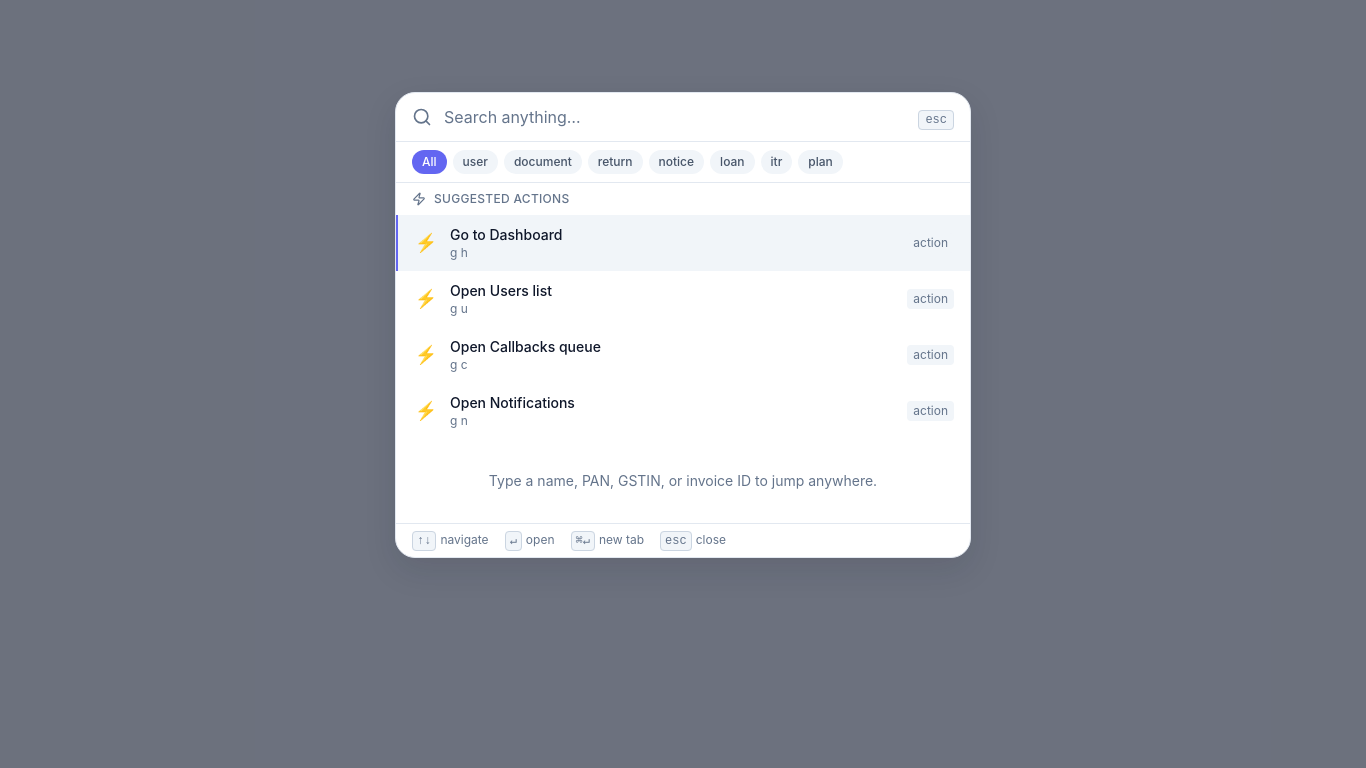
Test: CommandPalette › shows no-results message when search returns empty
The width and height of the screenshot is (1366, 768).
In the dropdown with placeholder "Search anything…": (675, 117) left=444, top=105, right=906, bottom=129, type "xyz"
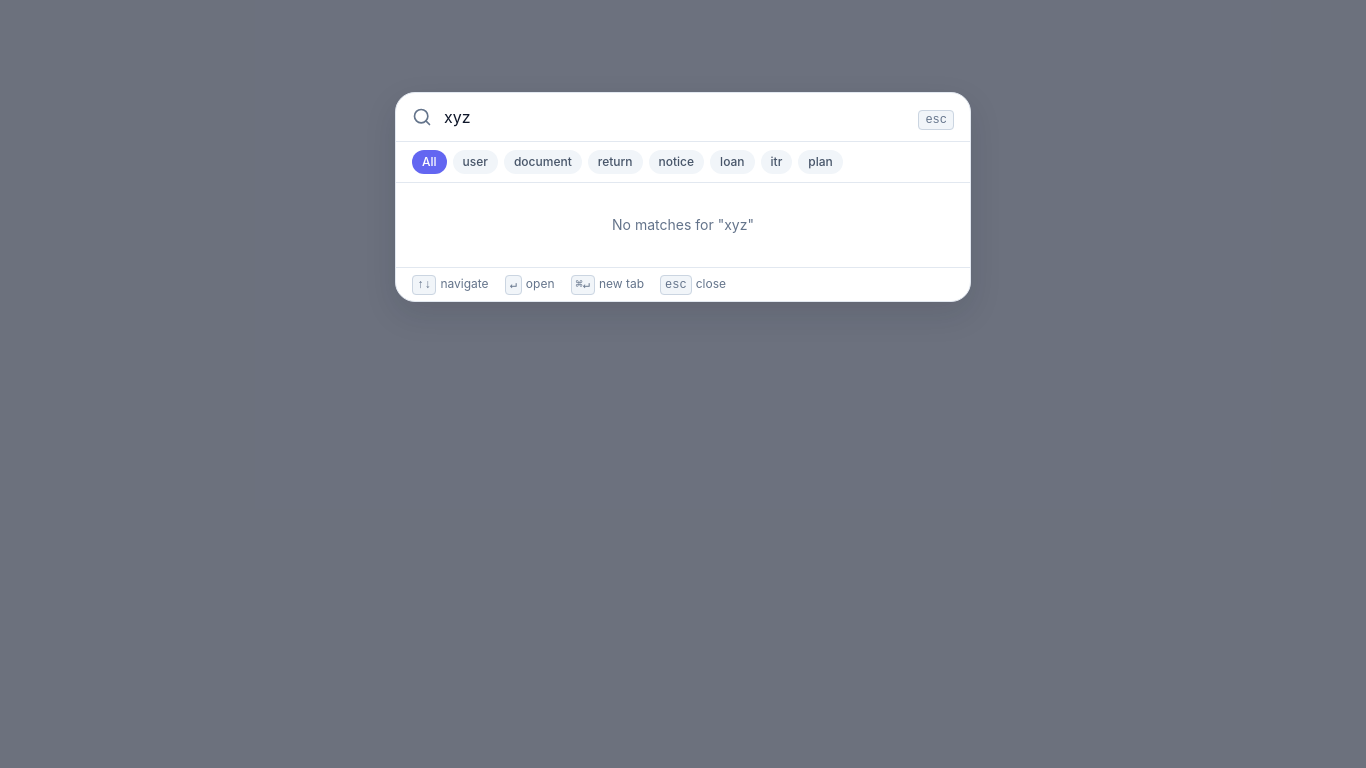
Expected: the text "No matches for \"xyz\"" is shown, left=612, top=216, right=754, bottom=233
